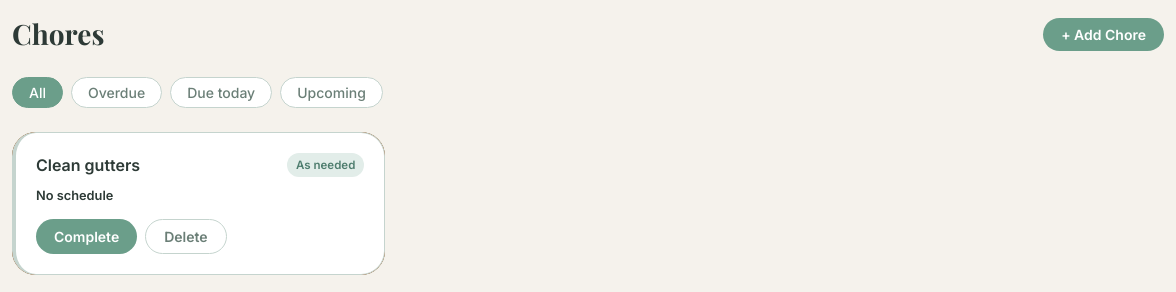
Test case: Chores › filter tabs › hides As-needed chore under Upcoming tab
expect the text "Clean gutters" is shown: met, box 36,153 -> 140,178
Click the button "Upcoming". click: coordinates (332, 92)
box: 280,77 -> 383,108
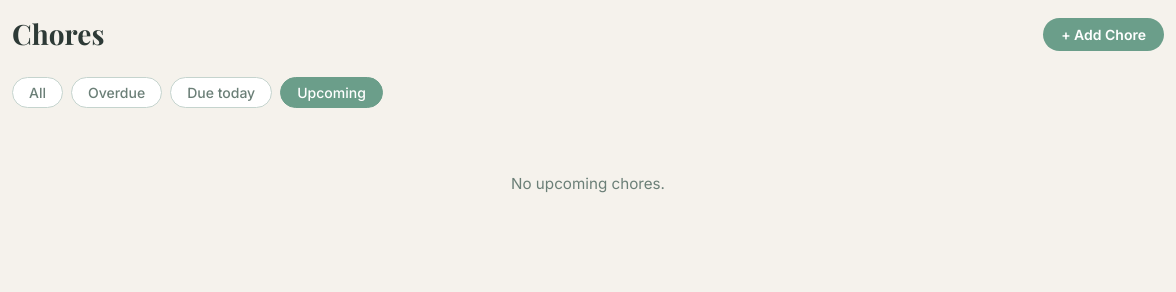
expect the text "Clean gutters" is gone: met
